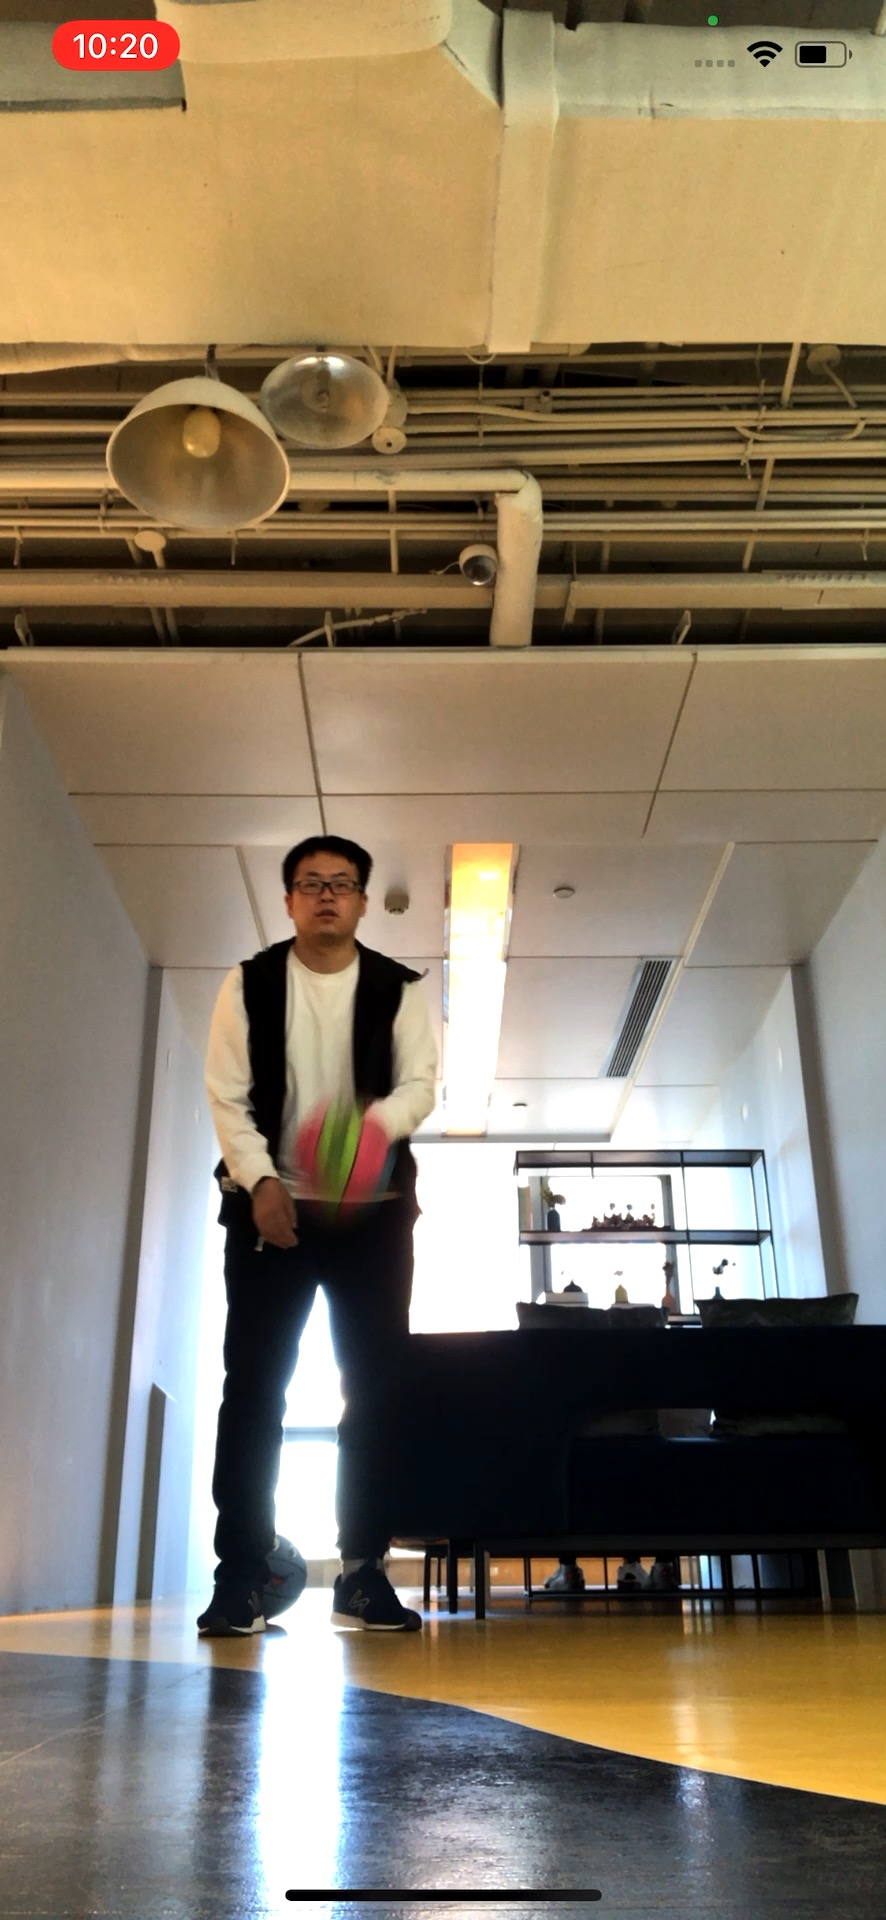ball: (292, 1096, 396, 1210)
